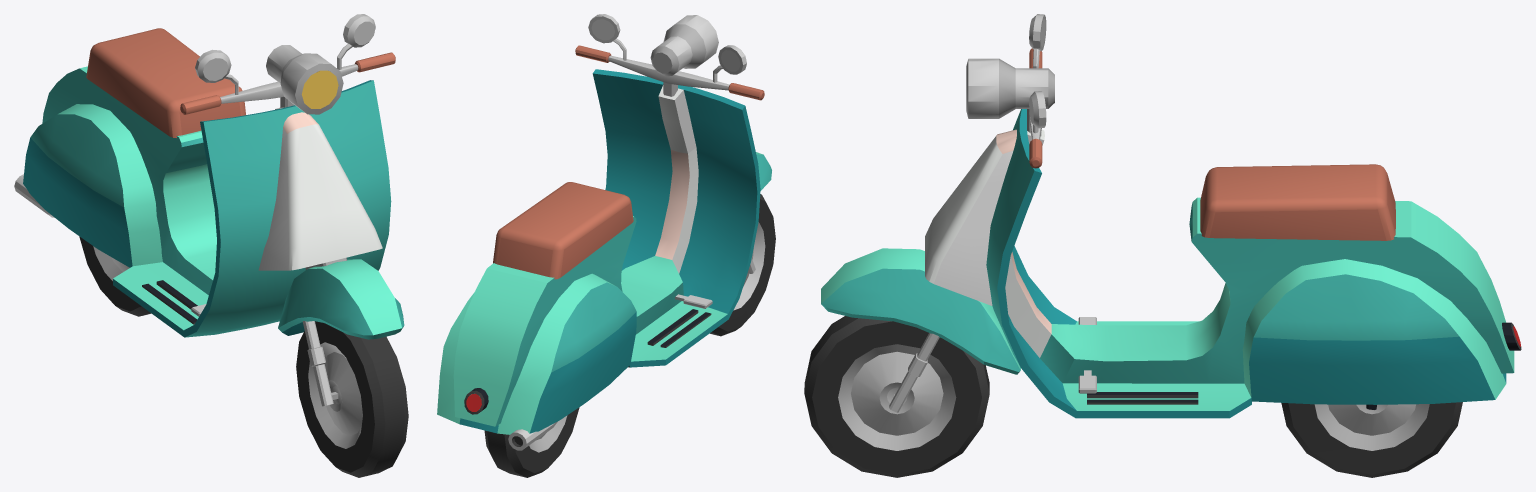
Rendered from Motobike_2.fbx.
3 renders of one model, left to right at view 1: azimuth 30°, elevation 25°; view 2: azimuth 150°, elevation 25°; view 3: azimuth 270°, elevation 25°, orthographic. The views are drawn at different scales.
Visible parts, largest first — view 1: Motobike_2_Tire_2, Motobike_2_Tire_1, Motobike_2; view 2: Motobike_2_Tire_2, Motobike_2, Motobike_2_Tire_1; view 3: Motobike_2_Tire_2, Motobike_2_Tire_1, Motobike_2.
Part boxes in pixels (bbox=[...]): Motobike_2_Tire_2: bbox=[14, 14, 404, 406]; Motobike_2_Tire_1: bbox=[296, 321, 408, 477]; Motobike_2: bbox=[79, 236, 151, 316]; Motobike_2_Tire_2: bbox=[437, 14, 771, 450]; Motobike_2: bbox=[484, 407, 579, 477]; Motobike_2_Tire_1: bbox=[710, 194, 775, 336]; Motobike_2_Tire_2: bbox=[821, 14, 1521, 418]; Motobike_2_Tire_1: bbox=[804, 316, 989, 477]; Motobike_2: bbox=[1281, 402, 1462, 477].
Size of the model in its own units: 94.04 by 164 by 255.
